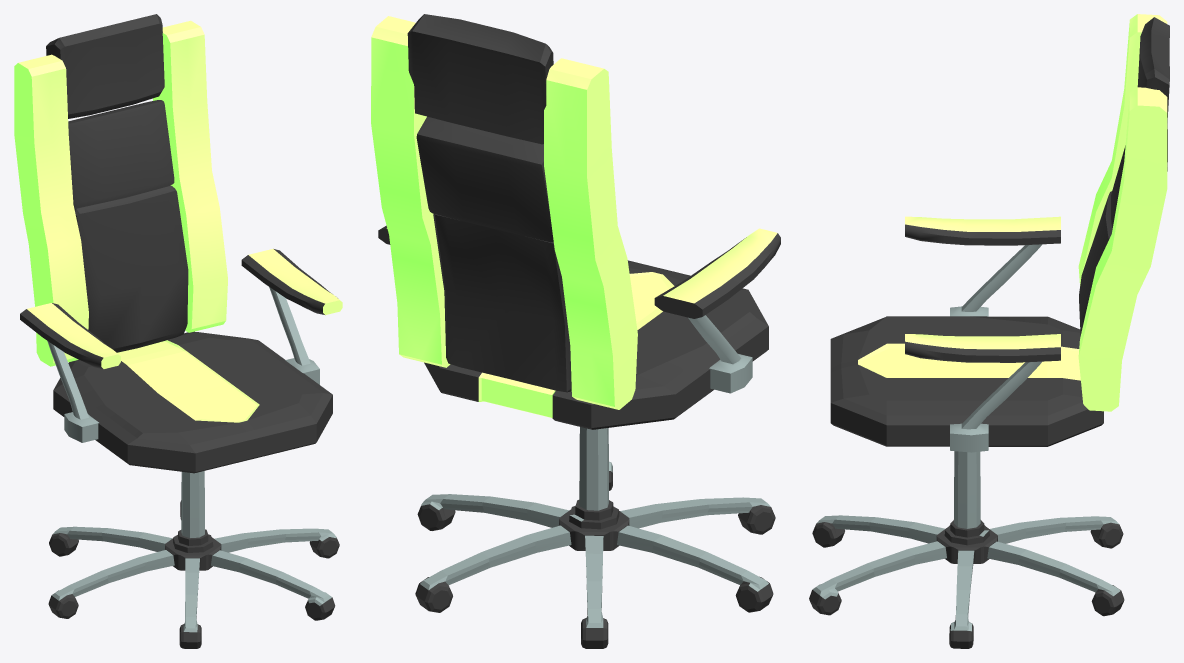
Rendered from CadeiraB.fbx.
3 renders of one model, left to right at view 1: azimuth 30°, elevation 25°; view 2: azimuth 150°, elevation 25°; view 3: azimuth 270°, elevation 25°, orthographic. The views are drawn at different scales.
Visible parts, largest first — view 1: CadeiraBCima, CadeiraGrande; view 2: CadeiraBCima, CadeiraGrande; view 3: CadeiraBCima, CadeiraGrande.
Part boxes in pixels (box(x1,y1,x2,y2)): CadeiraBCima: box(14, 14, 342, 473); CadeiraGrande: box(48, 471, 339, 648); CadeiraBCima: box(371, 14, 780, 429); CadeiraGrande: box(415, 427, 775, 648); CadeiraBCima: box(830, 14, 1169, 452); CadeiraGrande: box(809, 451, 1124, 648).
Bounding box in the file's own units: 77.49 × 131 × 79.52.
